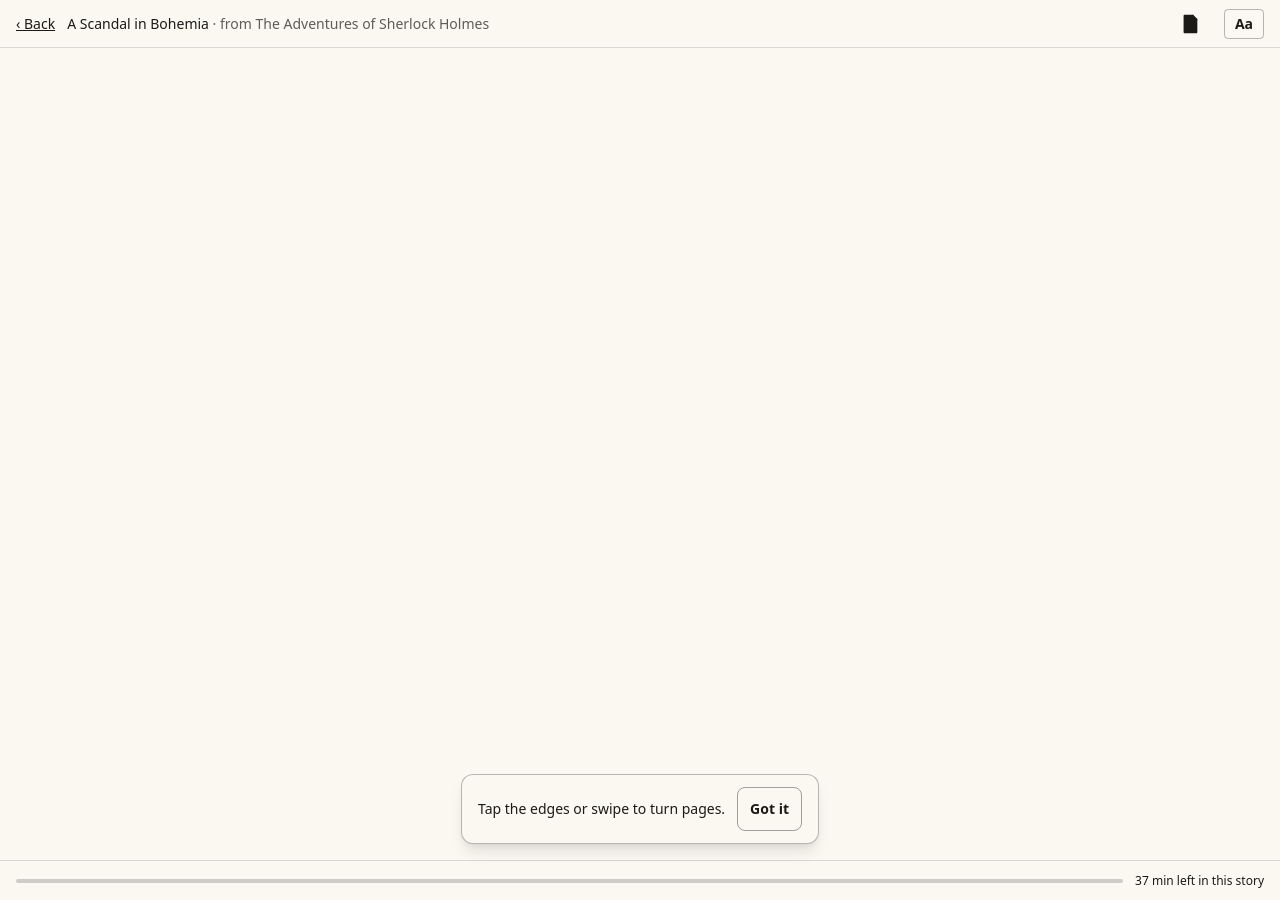
Test: the dog-ear button › starts filled for a dog-eared story, and toggling off shows Removed · Undo
Click the button named "Dog-eared": (1190, 24) [1168,2,1212,46]
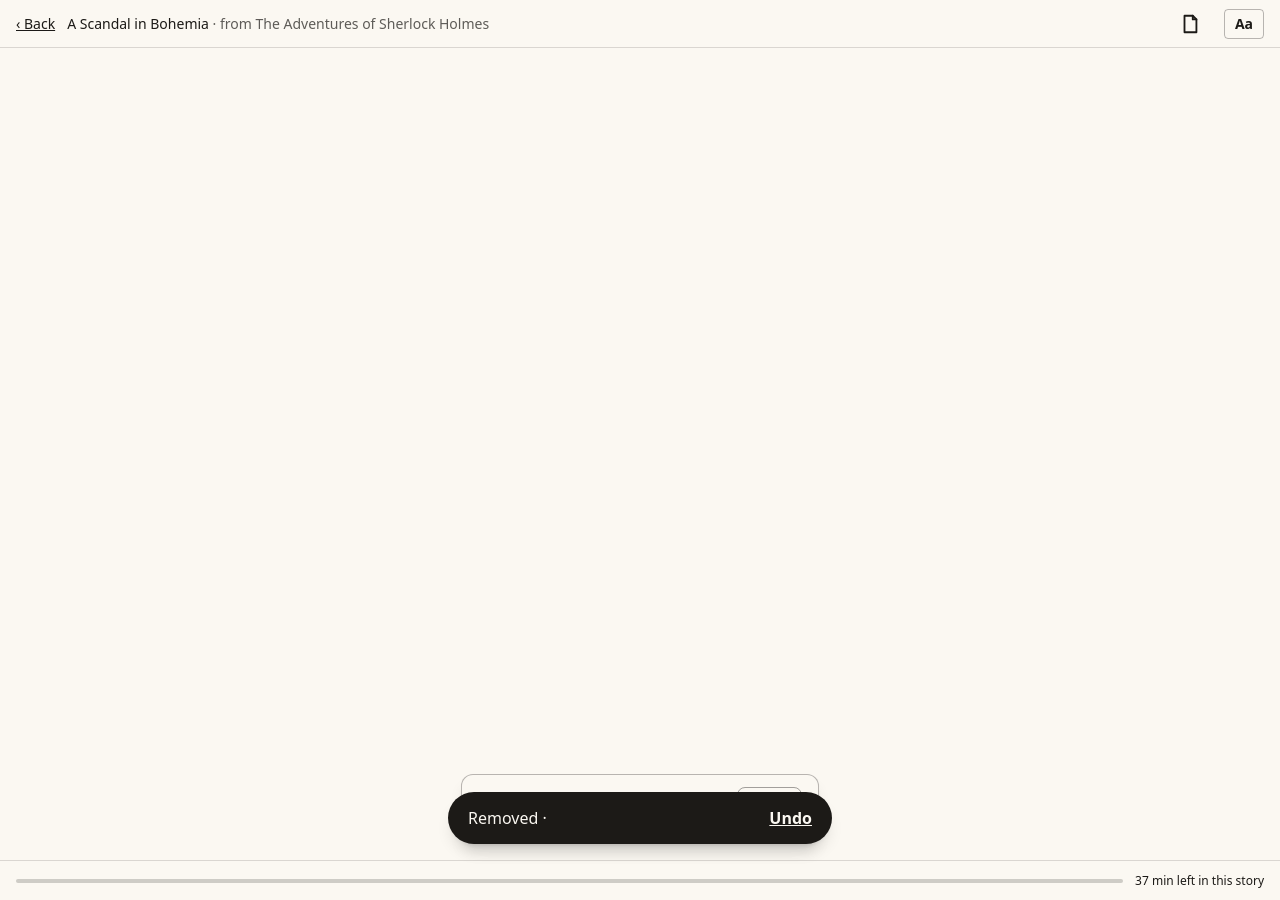
Check: the message shows "Removed ·", box [468,807,547,829]
Check: the button named "Dog-ear it for later" is shown, box [1168,2,1212,46]
Click the button "Undo": (791, 818) [757,796,824,840]
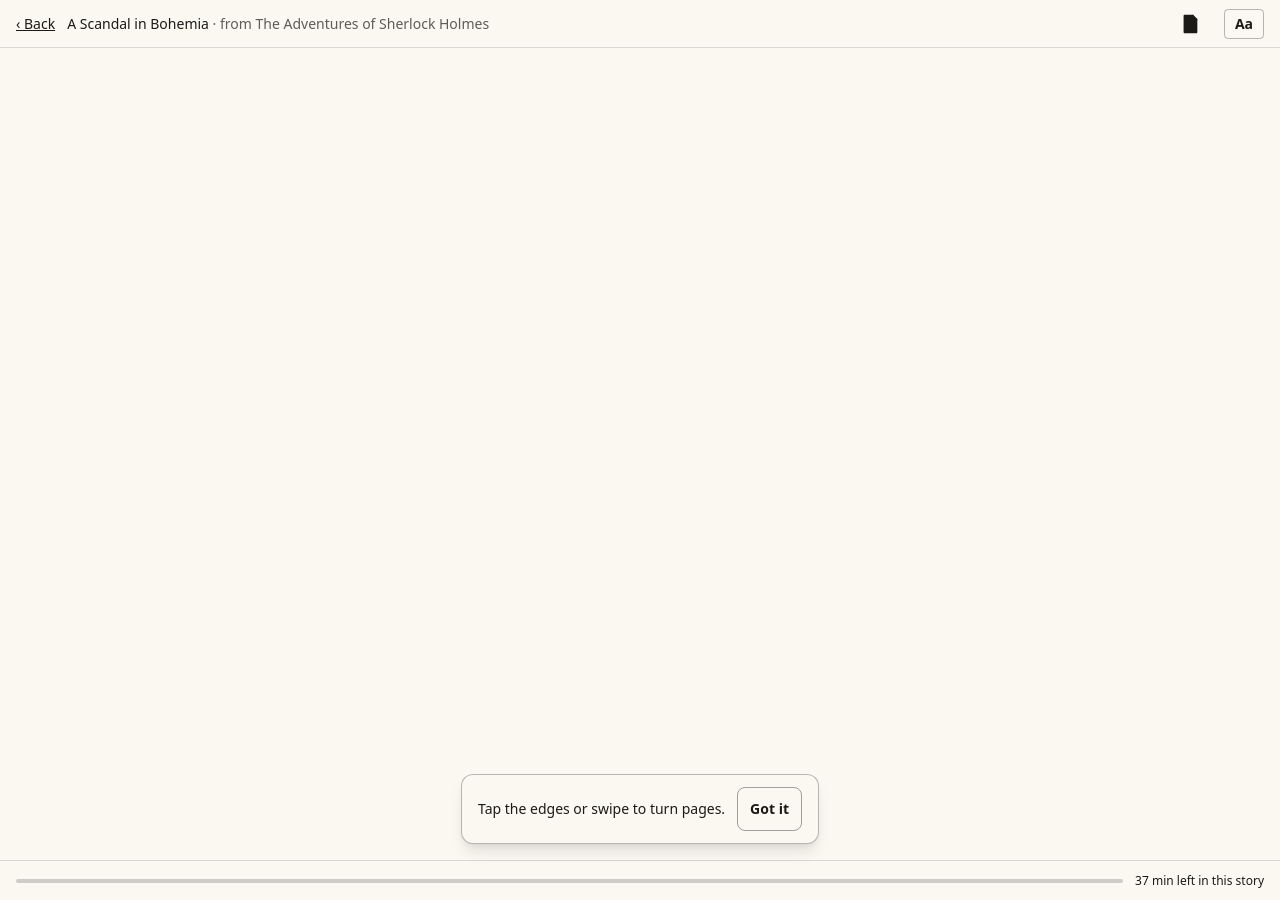
Check: the button named "Dog-eared" is shown, box [1168,2,1212,46]
